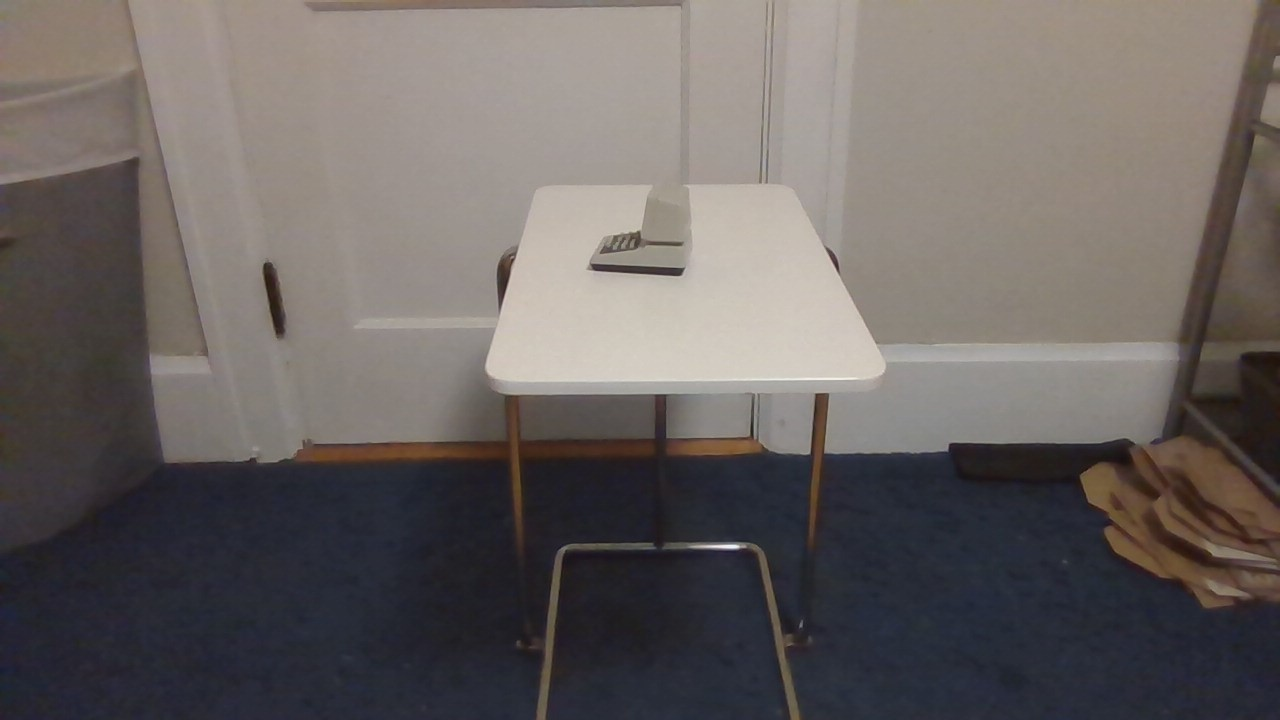Toy: (587, 180, 701, 286)
